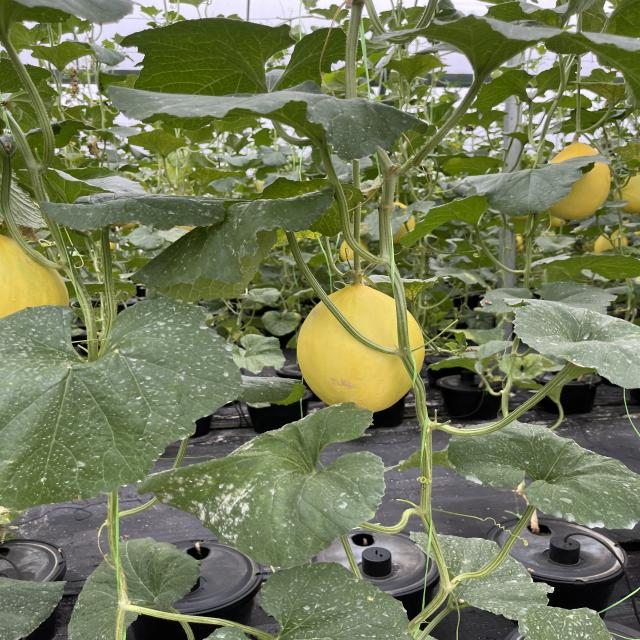downy mildew: (0, 298, 251, 510), (447, 419, 640, 530), (504, 297, 640, 392)
powdery mildew: (140, 401, 386, 571)
